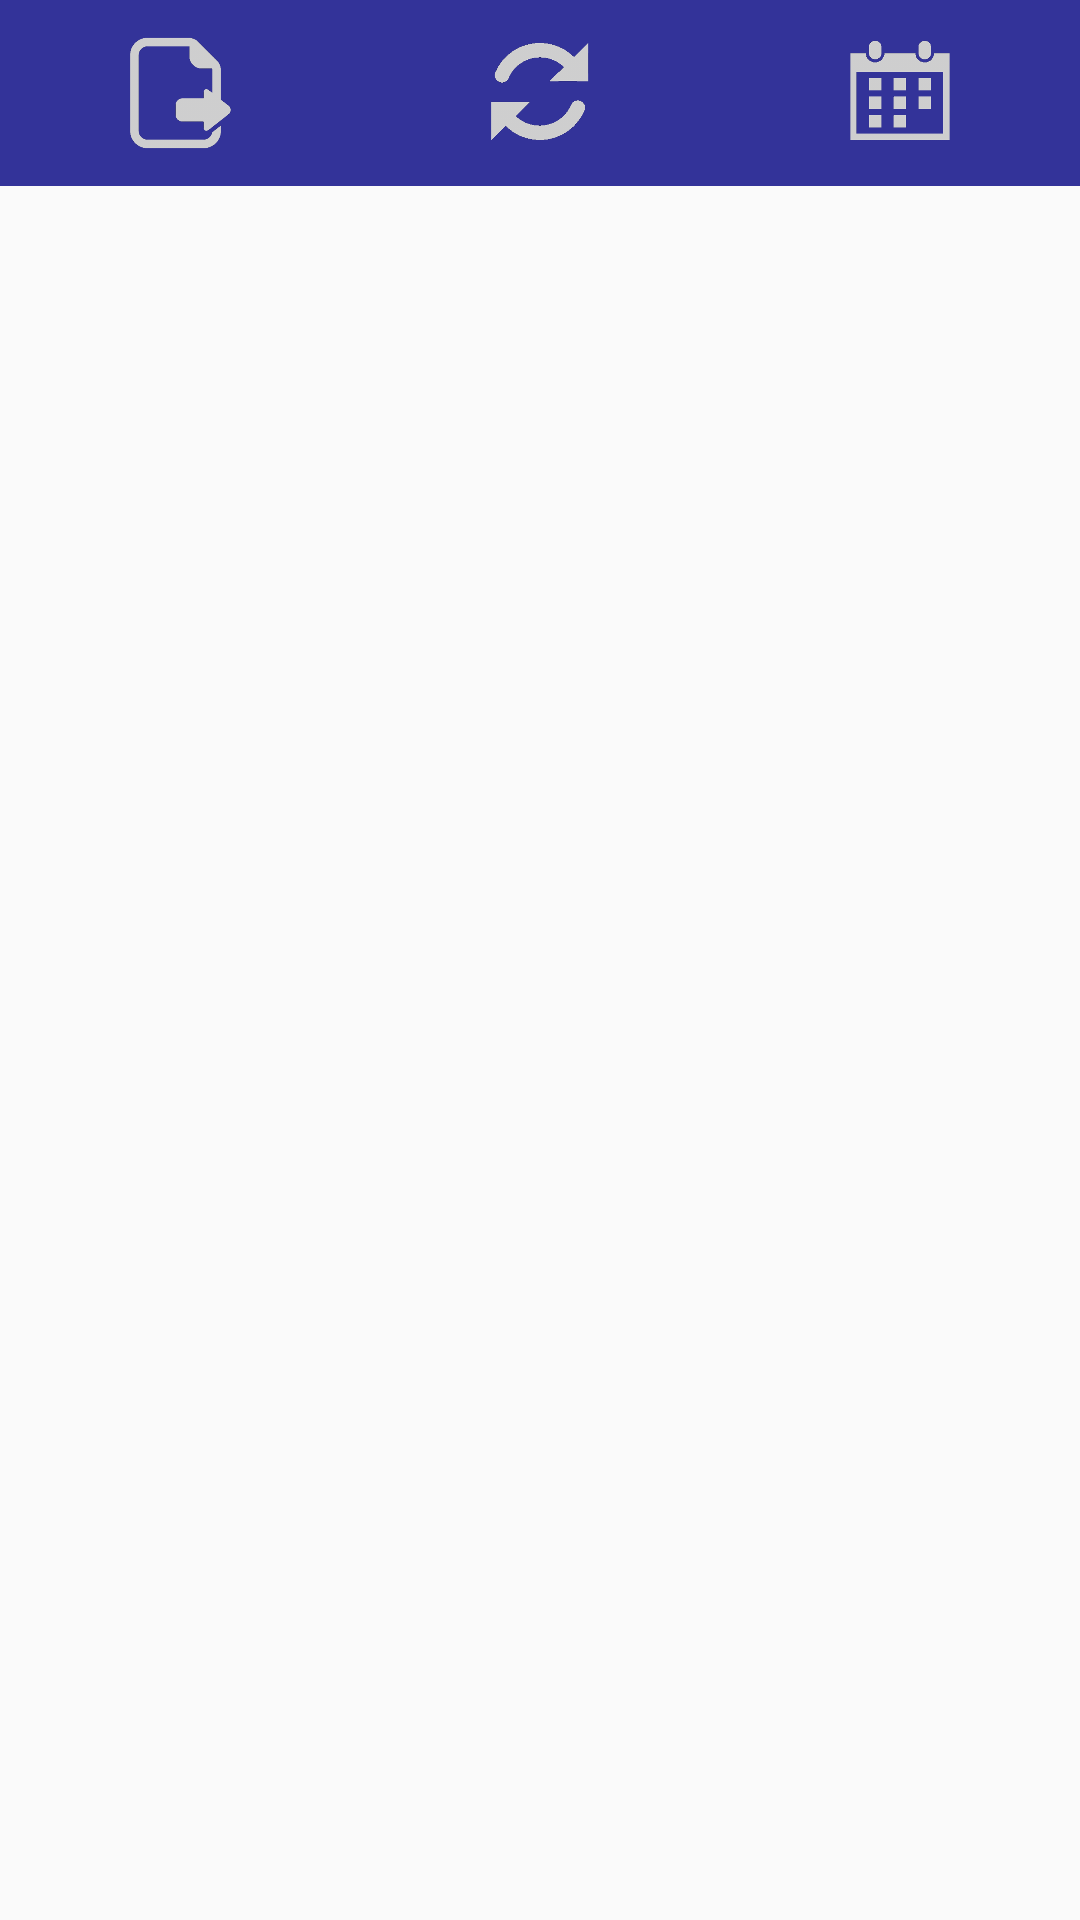

Screen size 1080 × 1920. Icon name, then its box in pixels as (x1=x1, y1=y1, x2=x2, y2=y2):
choose date: (x1=850, y1=41, x2=950, y2=140)
export: (x1=130, y1=38, x2=231, y2=148)
refresh: (x1=491, y1=43, x2=588, y2=140)
